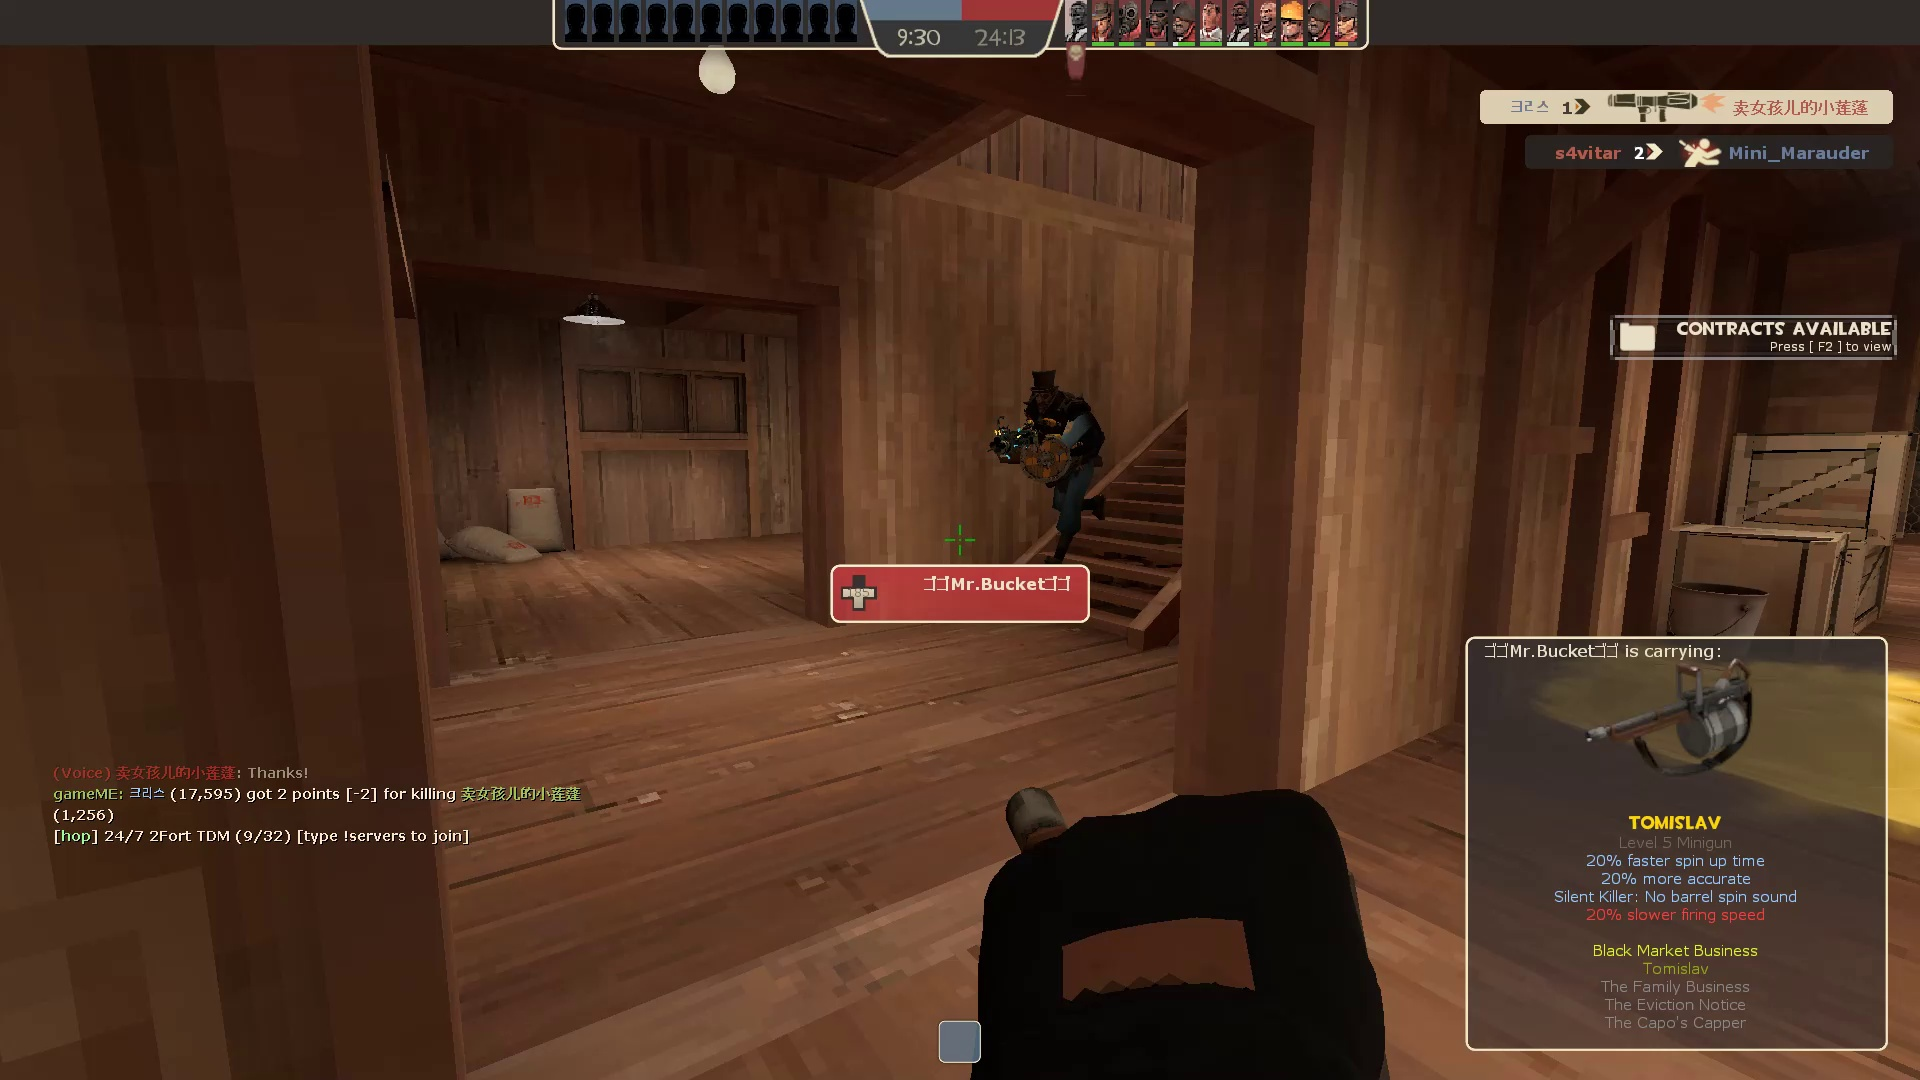blu_demo: (988, 361, 1116, 582)
